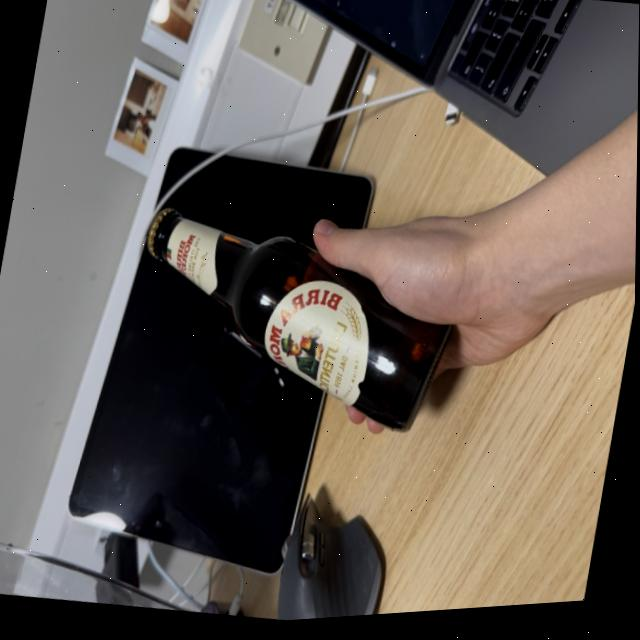beer: (114, 185, 480, 463)
